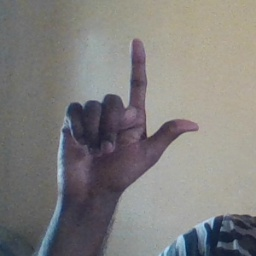L: (53, 36, 202, 189)
